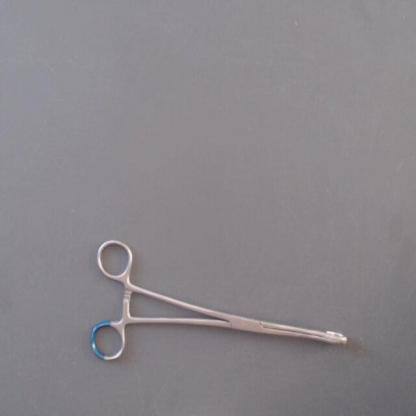Sponge Forceps: (85, 232, 356, 372)
